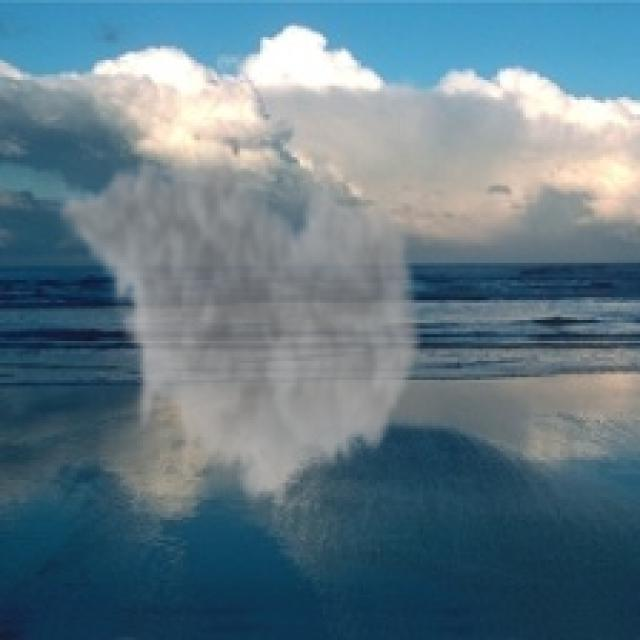Smoke: (54, 132, 426, 514)
